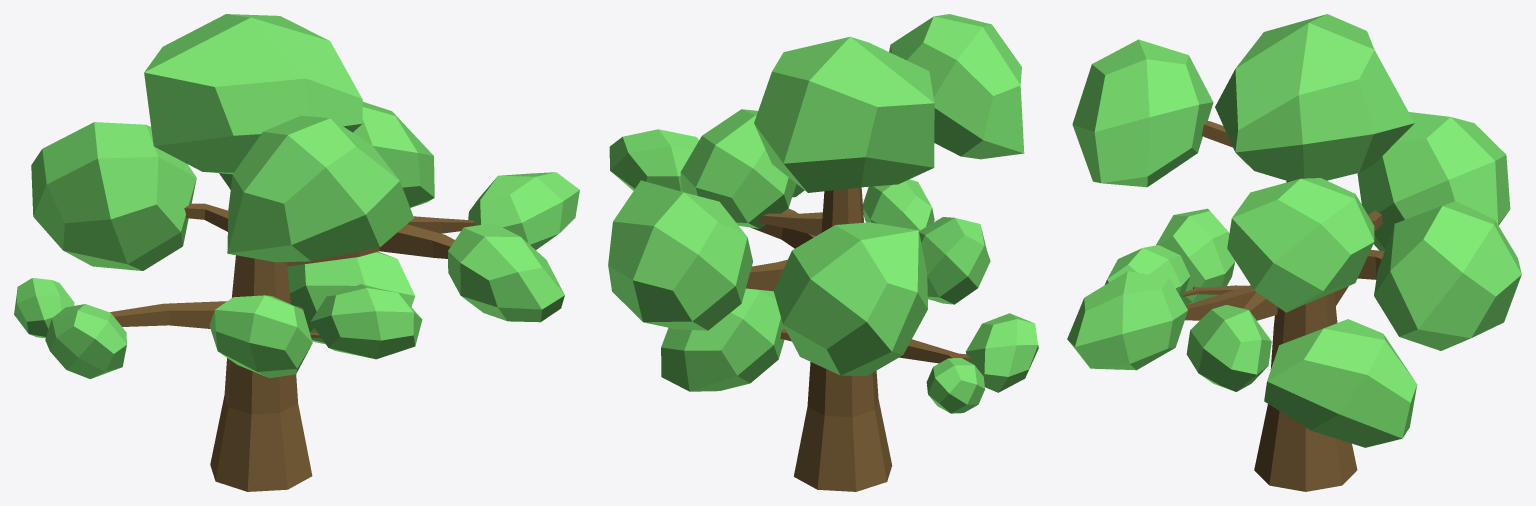
The model's file is OAK.fbx.
3 renders of one model, left to right at view 1: azimuth 30°, elevation 25°; view 2: azimuth 150°, elevation 25°; view 3: azimuth 270°, elevation 25°, orthographic. The views are drawn at different scales.
Visible parts, largest first — view 1: Circle; view 2: Circle; view 3: Circle.
Part boxes in pixels (x1,y1,x2,y2): Circle: (14, 14, 579, 491); Circle: (608, 14, 1038, 491); Circle: (1067, 14, 1521, 491).
Bounding box in the file's own units: 1057 × 946 × 880.
